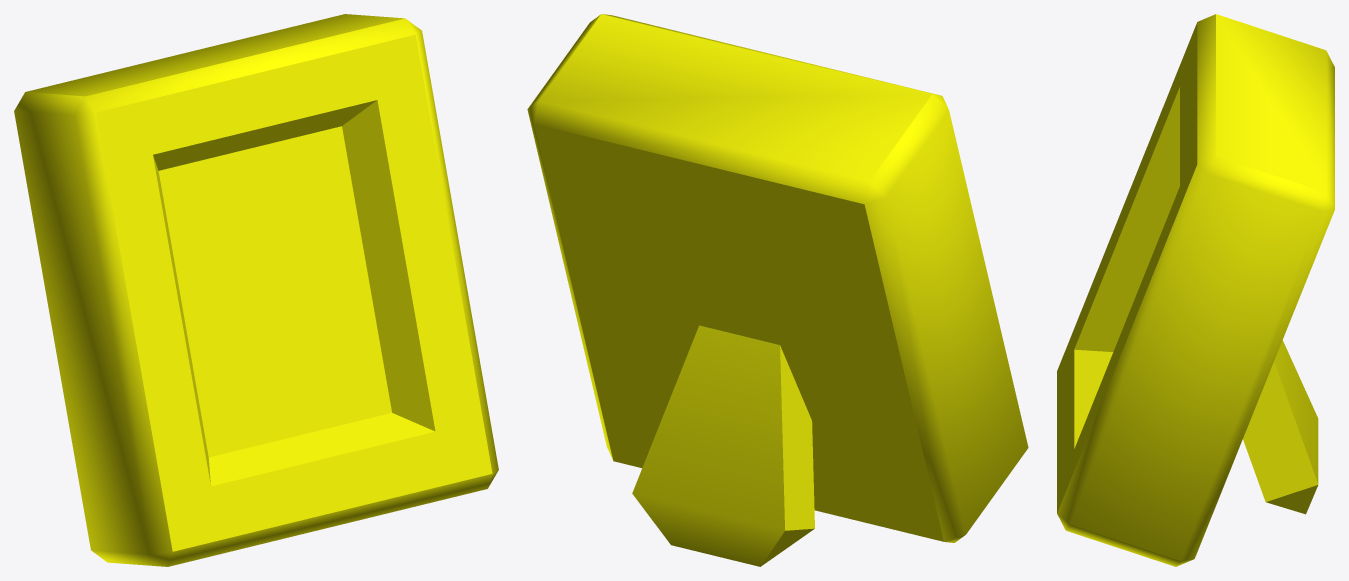
The model's file is kaykit-pictureframe-standing-a.glb.
3 renders of one model, left to right at view 1: azimuth 30°, elevation 25°; view 2: azimuth 150°, elevation 25°; view 3: azimuth 270°, elevation 25°, orthographic. The views are drawn at different scales.
Visible parts, largest first — view 1: pictureframe_standing_A; view 2: pictureframe_standing_A; view 3: pictureframe_standing_A.
Part boxes in pixels (x1=…): pictureframe_standing_A: x1=14, y1=14, x2=498, y2=566; pictureframe_standing_A: x1=527, y1=14, x2=1028, y2=566; pictureframe_standing_A: x1=1057, y1=14, x2=1334, y2=566.
Bounding box in the file's own units: 0.5 × 0.6185 × 0.3795.
